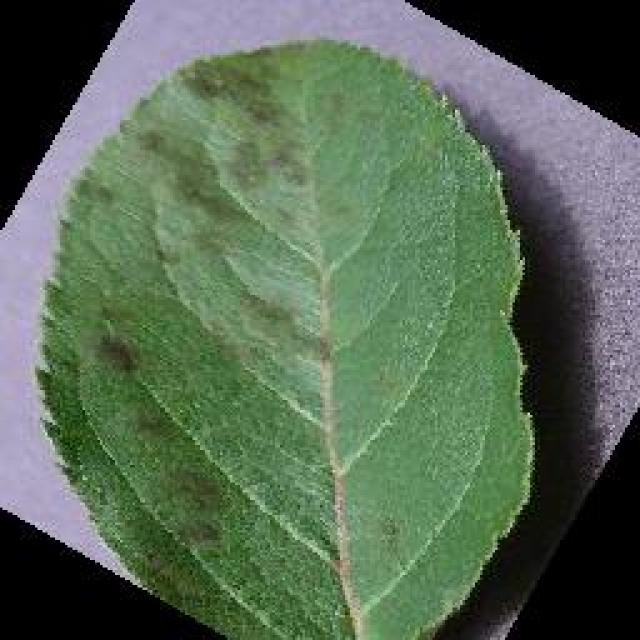apple scab disease: (32, 32, 540, 638)
